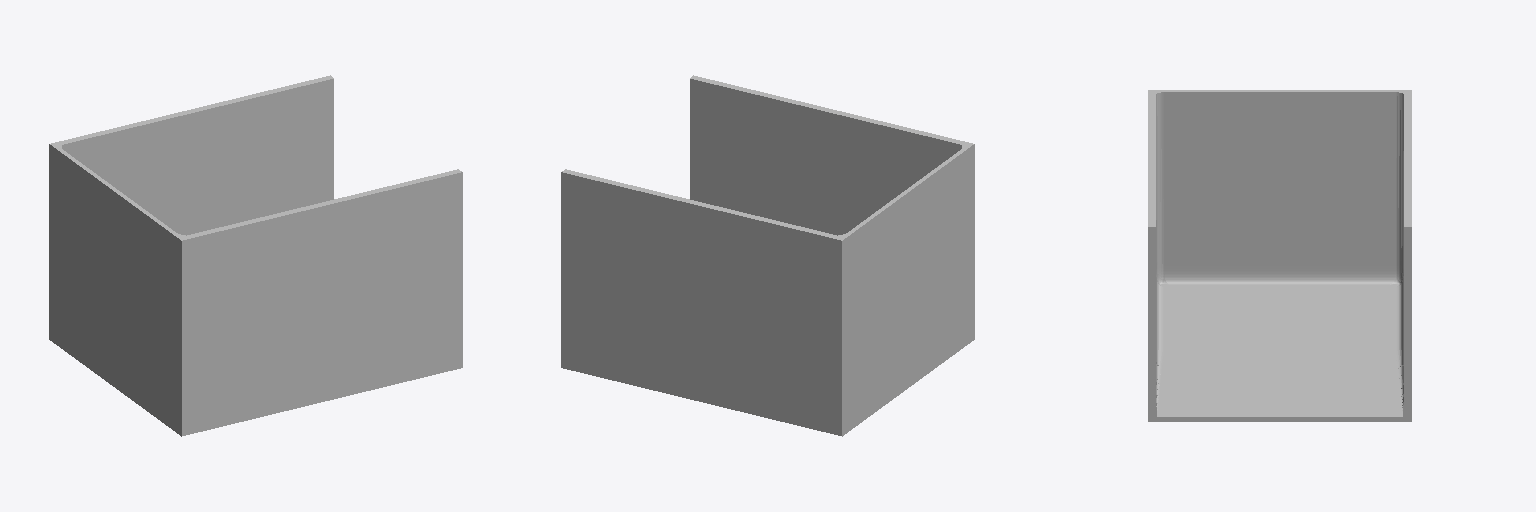
File: menu background.obj
3 views of the same model, side by side, from view 1: azimuth 30°, elevation 25°; view 2: azimuth 150°, elevation 25°; view 3: azimuth 270°, elevation 25° (orthographic).
Parts seen in each view (by area): view 1: Cube; view 2: Cube; view 3: Cube.
Boxes of the visible parts, box(x1,y1,x2,y2) form: Cube: box(49, 75, 462, 436); Cube: box(561, 75, 974, 436); Cube: box(1148, 90, 1411, 421).
Size of the model in its own units: 6.22 by 4.14 by 5.07.